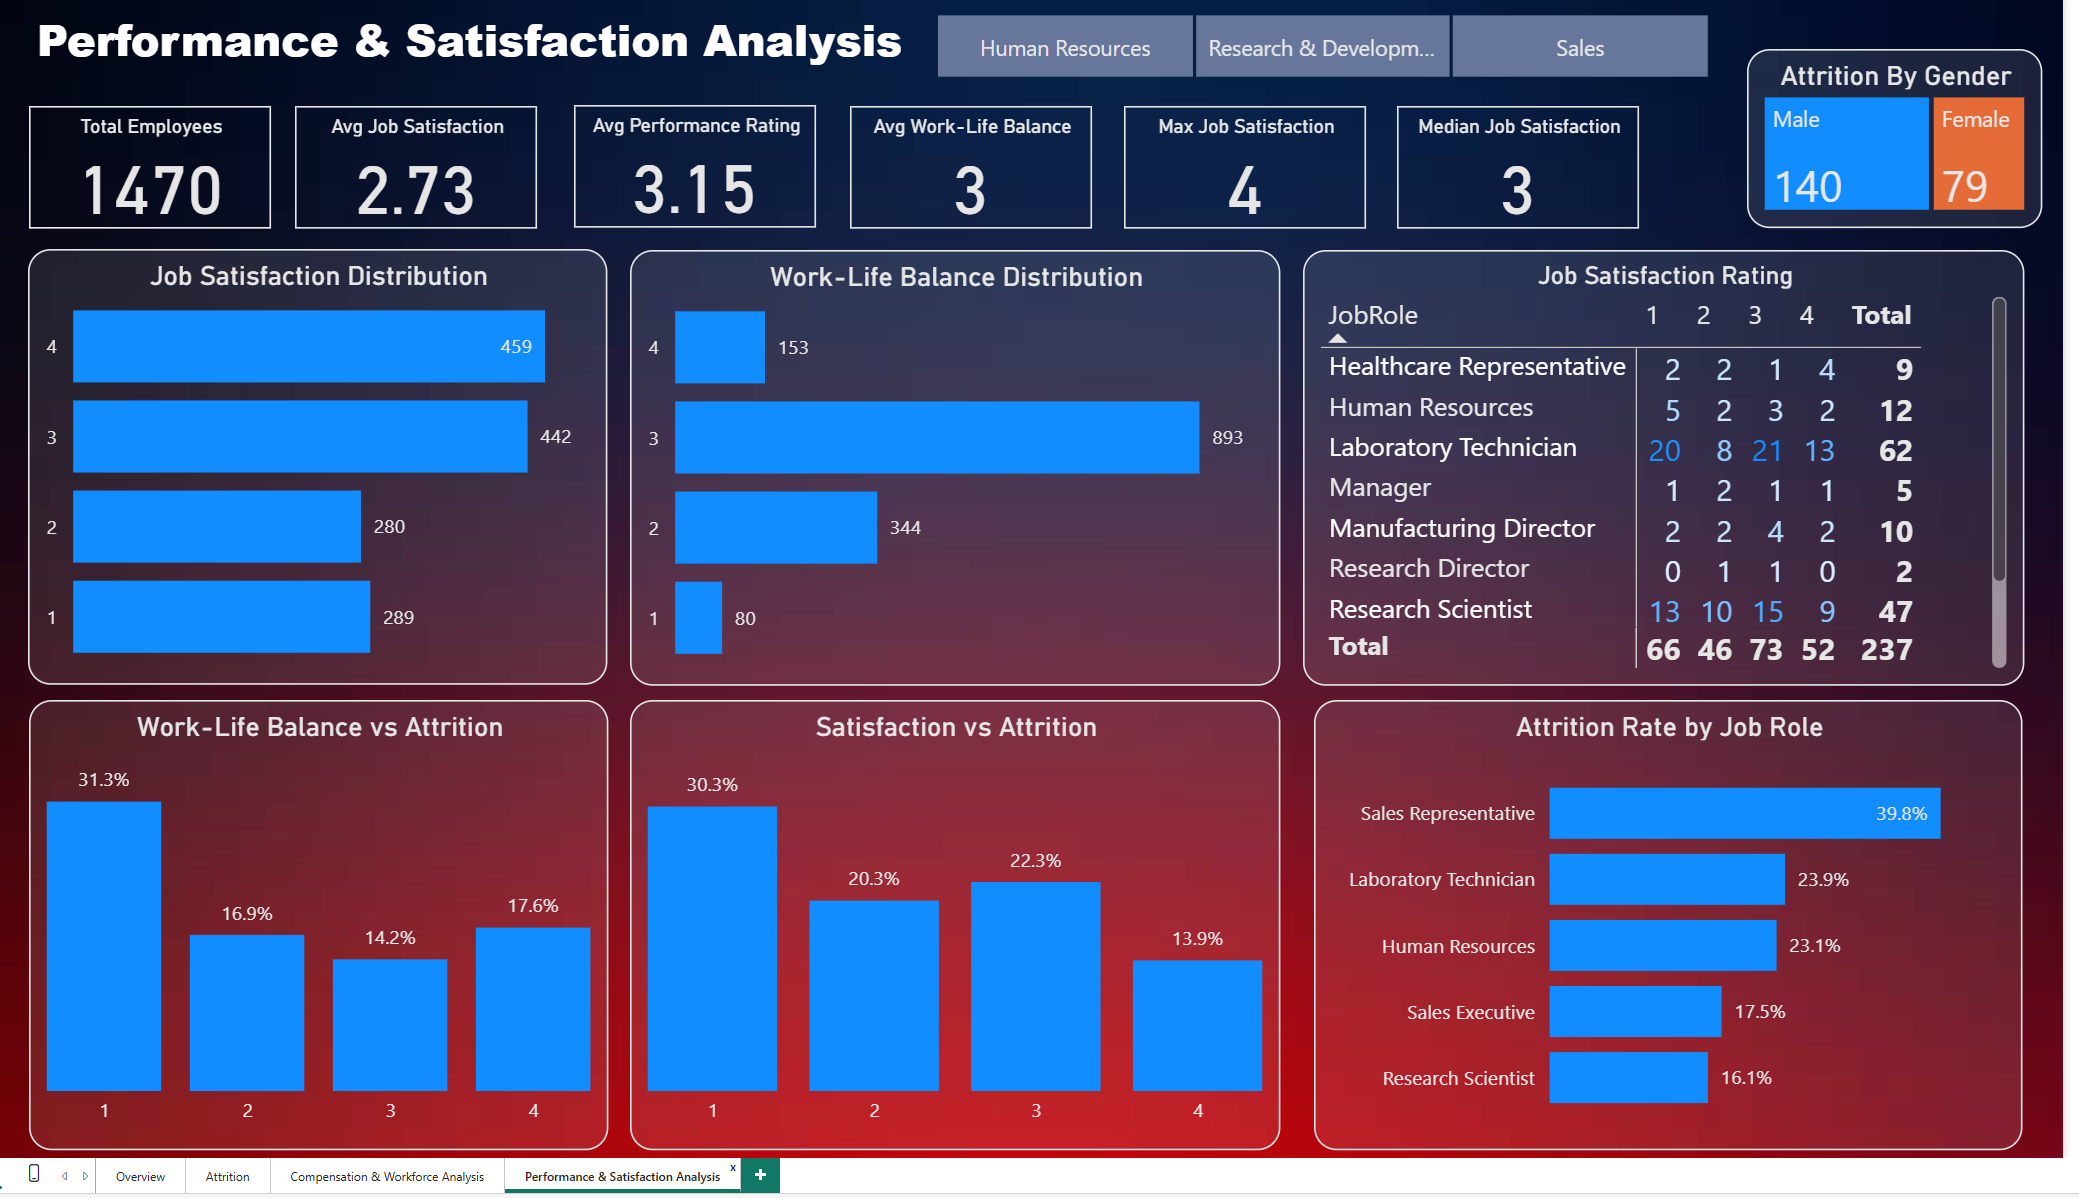

This screenshot's page, from the dashboard's own definition file:
{"tool":"powerbi","page":{"name":"Performance & Satisfaction Analysis","canvas":[1280,720],"ordinal":3},"visuals":[{"type":"card","title":"Avg Job Satisfaction","fields":{"Values":["Avg(HR_Analytics.JobSatisfaction)"]},"box":[184.7,68,149.9,75.7],"z":0},{"type":"card","title":"Median Job Satisfaction","fields":{"Values":["Median(HR_Analytics.JobSatisfaction)"]},"box":[867.6,68,149.9,75.7],"z":1000},{"type":"card","title":"Max Job Satisfaction","fields":{"Values":["Max(HR_Analytics.JobSatisfaction)"]},"box":[698,68,149.9,75.7],"z":2000},{"type":"card","title":"Avg Work-Life Balance","fields":{"Values":["Avg(HR_Analytics.WorkLifeBalance)"]},"box":[528.5,68,149.9,75.7],"z":3000},{"type":"card","title":"Avg Performance Rating","fields":{"Values":["Avg(HR_Analytics.PerformanceRating)"]},"box":[357.5,67.8,149.9,76.2],"z":4000},{"type":"clusteredBarChart","title":"Job Satisfaction Distribution","fields":{"Category":["HR_Analytics.JobSatisfaction"],"Y":["CountNonNull(HR_Analytics.EmpID)"]},"box":[19.2,156.8,358.8,269.5],"z":5000},{"type":"clusteredBarChart","title":"Work-Life Balance Distribution","fields":{"Category":["HR_Analytics.WorkLifeBalance"],"Y":["CountNonNull(HR_Analytics.EmpID)"]},"box":[392.2,157.5,402.8,269.5],"z":6000},{"type":"pivotTable","title":"Job Satisfaction Rating","fields":{"Rows":["HR_Analytics.JobRole"],"Columns":["HR_Analytics.JobSatisfaction"],"Values":["Sum(HR_Analytics.AttritionCount)"]},"box":[809.2,157.4,447.4,269.5],"z":7000},{"type":"card","title":"Total Employees","fields":{"Values":["CountNonNull(HR_Analytics.EmpID)"]},"box":[19.7,68.1,149.9,75.7],"z":8000},{"type":"columnChart","title":"Satisfaction vs Attrition","fields":{"Category":["HR_Analytics.JobSatisfaction"],"Y":["HR_Analytics.AttritionRate"]},"box":[392.2,436.1,402.8,278.6],"z":10000},{"type":"treemap","title":"Attrition By Gender","fields":{"Group":["HR_Analytics.Gender"],"Values":["Sum(HR_Analytics.AttritionCount)"]},"box":[1084.3,32.8,182.8,110.9],"z":12000},{"type":"textbox","box":[19.7,3,561.8,59.1],"z":13000},{"type":"slicer","fields":{"Values":["HR_Analytics.Department"]},"box":[557.2,0,526.9,62.1],"z":14000},{"type":"columnChart","title":"Work-Life Balance vs Attrition","fields":{"Category":["HR_Analytics.WorkLifeBalance"],"Y":["HR_Analytics.AttritionRate"]},"box":[19.7,436.1,358.9,278.6],"z":14001},{"type":"clusteredBarChart","title":"Attrition Rate by Job Role","fields":{"Category":["HR_Analytics.JobRole"],"Y":["HR_Analytics.AttritionRate"]},"box":[816.2,436.1,439.1,278.6],"z":14002}]}

Visuals, with their boxes on the page's 1280x720 design canvas (x1, y1, x2, y2). These are canvas units, not pixel positions in the 2079x1198 screenshot, which may show the page scaled, cropped or inside an application window:
"Avg Job Satisfaction" card: x1=185, y1=68, x2=335, y2=144
"Median Job Satisfaction" card: x1=868, y1=68, x2=1018, y2=144
"Max Job Satisfaction" card: x1=698, y1=68, x2=848, y2=144
"Avg Work-Life Balance" card: x1=528, y1=68, x2=678, y2=144
"Avg Performance Rating" card: x1=358, y1=68, x2=507, y2=144
"Job Satisfaction Distribution" clusteredBarChart: x1=19, y1=157, x2=378, y2=426
"Work-Life Balance Distribution" clusteredBarChart: x1=392, y1=158, x2=795, y2=427
"Job Satisfaction Rating" pivotTable: x1=809, y1=157, x2=1257, y2=427
"Total Employees" card: x1=20, y1=68, x2=170, y2=144
"Satisfaction vs Attrition" columnChart: x1=392, y1=436, x2=795, y2=715
"Attrition By Gender" treemap: x1=1084, y1=33, x2=1267, y2=144
textbox: x1=20, y1=3, x2=582, y2=62
slicer - HR_Analytics.Department: x1=557, y1=0, x2=1084, y2=62
"Work-Life Balance vs Attrition" columnChart: x1=20, y1=436, x2=379, y2=715
"Attrition Rate by Job Role" clusteredBarChart: x1=816, y1=436, x2=1255, y2=715
